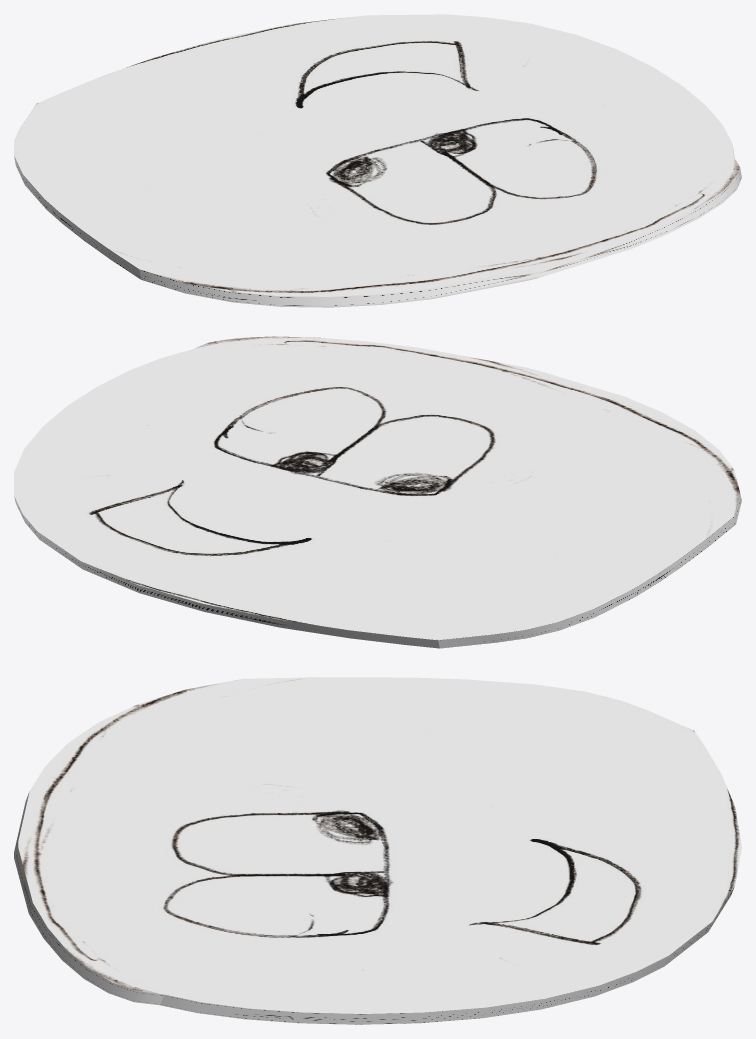
File: happy.obj
The picture shows the model from 3 angles, top to bottom: view 1: azimuth 30°, elevation 25°; view 2: azimuth 150°, elevation 25°; view 3: azimuth 270°, elevation 25°; orthographic projection. The views are drawn at different scales.
Visible parts, largest first — view 1: Spline_Object; view 2: Spline_Object; view 3: Spline_Object.
Part boxes in pixels (bbox=[...]): Spline_Object: bbox=[14, 14, 741, 307]; Spline_Object: bbox=[14, 336, 741, 648]; Spline_Object: bbox=[14, 677, 741, 1024].
Bounding box in the file's own units: 176 × 2.62 × 161.
Materials: 3 (3 with a texture image).
